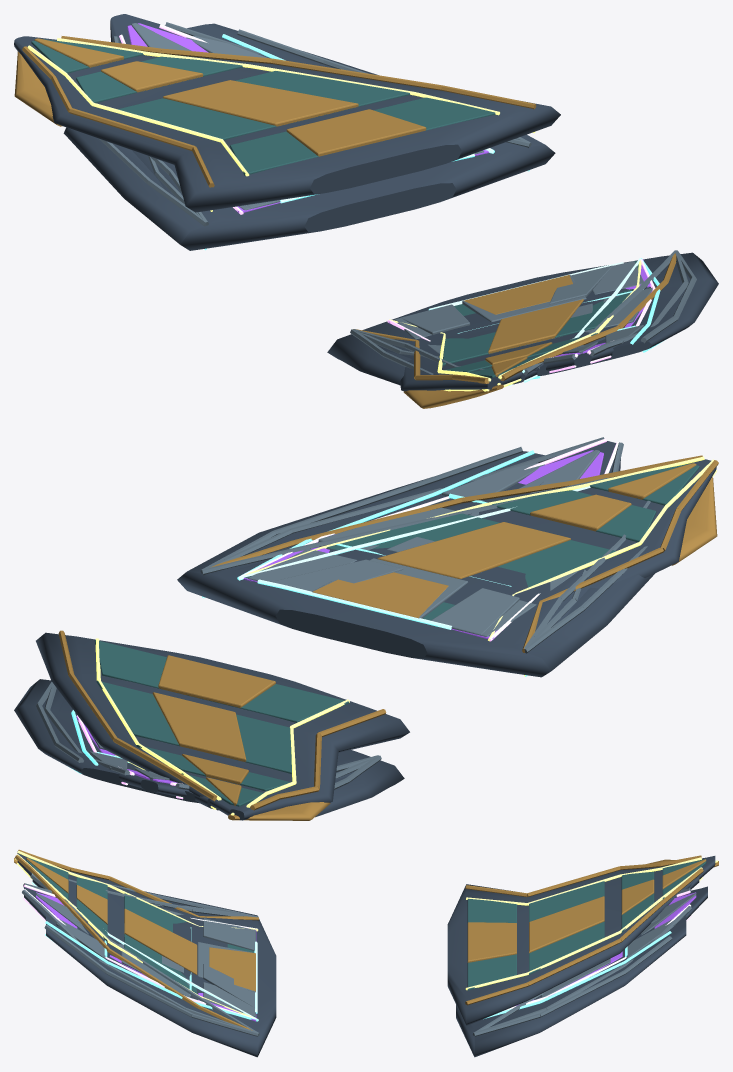
The model's file is wings.glb.
The picture shows the model from 3 angles, top to bottom: view 1: azimuth 30°, elevation 25°; view 2: azimuth 150°, elevation 25°; view 3: azimuth 270°, elevation 25°; orthographic projection. The views are drawn at different scales.
Parts seen in each view (by area): view 1: w_phantom Fitting gunmetal, w_phantom Champagne gold edging, w_phantom Phantom blue-black enamel, w_razor Fitting gunmetal, w_vane Fitting gunmetal, w_vane Brushed fitting edges, w_razor Brushed fitting edges, w_prism Brushed fitting edges, w_phantom w_phantom emitter, w_prism Fitting gunmetal, w_prism Violet prismatic glass, w_vane w_vane emitter (+2 smaller); view 2: w_phantom Champagne gold edging, w_phantom Fitting gunmetal, w_phantom Phantom blue-black enamel, w_razor Fitting gunmetal, w_vane Fitting gunmetal, w_vane Brushed fitting edges, w_razor Brushed fitting edges, w_prism Brushed fitting edges, w_phantom w_phantom emitter, w_vane w_vane emitter, w_razor w_razor emitter, w_prism Fitting gunmetal (+2 smaller); view 3: w_phantom Champagne gold edging, w_phantom Fitting gunmetal, w_phantom Phantom blue-black enamel, w_vane Fitting gunmetal, w_vane Brushed fitting edges, w_razor Fitting gunmetal, w_razor Brushed fitting edges, w_prism Brushed fitting edges, w_phantom w_phantom emitter, w_vane w_vane emitter, w_prism w_prism emitter, w_prism Violet prismatic glass (+2 smaller).
Boxes of the visible parts, x1=… form: w_phantom Fitting gunmetal: x1=14, y1=36, x2=650, y2=391; w_phantom Champagne gold edging: x1=14, y1=36, x2=676, y2=408; w_phantom Phantom blue-black enamel: x1=31, y1=39, x2=638, y2=377; w_razor Fitting gunmetal: x1=132, y1=144, x2=661, y2=384; w_vane Fitting gunmetal: x1=63, y1=23, x2=718, y2=385; w_vane Brushed fitting edges: x1=99, y1=29, x2=696, y2=374; w_razor Brushed fitting edges: x1=150, y1=139, x2=675, y2=374; w_prism Brushed fitting edges: x1=112, y1=22, x2=688, y2=363; w_phantom w_phantom emitter: x1=27, y1=37, x2=641, y2=391; w_prism Fitting gunmetal: x1=110, y1=14, x2=673, y2=371; w_prism Violet prismatic glass: x1=127, y1=23, x2=651, y2=356; w_vane w_vane emitter: x1=204, y1=34, x2=662, y2=379; w_phantom Champagne gold edging: x1=58, y1=455, x2=718, y2=820; w_phantom Fitting gunmetal: x1=36, y1=459, x2=716, y2=820; w_phantom Phantom blue-black enamel: x1=94, y1=463, x2=699, y2=806; w_razor Fitting gunmetal: x1=177, y1=547, x2=591, y2=810; w_vane Fitting gunmetal: x1=14, y1=451, x2=654, y2=817; w_vane Brushed fitting edges: x1=36, y1=447, x2=647, y2=789; w_razor Brushed fitting edges: x1=202, y1=477, x2=650, y2=771; w_prism Brushed fitting edges: x1=44, y1=437, x2=623, y2=789; w_phantom w_phantom emitter: x1=95, y1=456, x2=716, y2=815; w_vane w_vane emitter: x1=69, y1=450, x2=534, y2=773; w_razor w_razor emitter: x1=203, y1=486, x2=590, y2=629; w_prism Fitting gunmetal: x1=59, y1=441, x2=620, y2=797; w_phantom Champagne gold edging: x1=14, y1=849, x2=718, y2=1030; w_phantom Fitting gunmetal: x1=17, y1=853, x2=715, y2=1025; w_phantom Phantom blue-black enamel: x1=26, y1=857, x2=706, y2=1021; w_vane Fitting gunmetal: x1=46, y1=891, x2=686, y2=1057; w_vane Brushed fitting edges: x1=44, y1=884, x2=675, y2=1036; w_razor Fitting gunmetal: x1=32, y1=875, x2=699, y2=1056; w_razor Brushed fitting edges: x1=30, y1=874, x2=546, y2=1036; w_prism Brushed fitting edges: x1=22, y1=883, x2=696, y2=1032; w_phantom w_phantom emitter: x1=15, y1=850, x2=717, y2=1017; w_vane w_vane emitter: x1=45, y1=921, x2=671, y2=1021; w_prism w_prism emitter: x1=23, y1=884, x2=691, y2=1019; w_prism Violet prismatic glass: x1=36, y1=892, x2=696, y2=1021.
Size of the model in its own units: 39.47 by 9.76 by 79.41.
